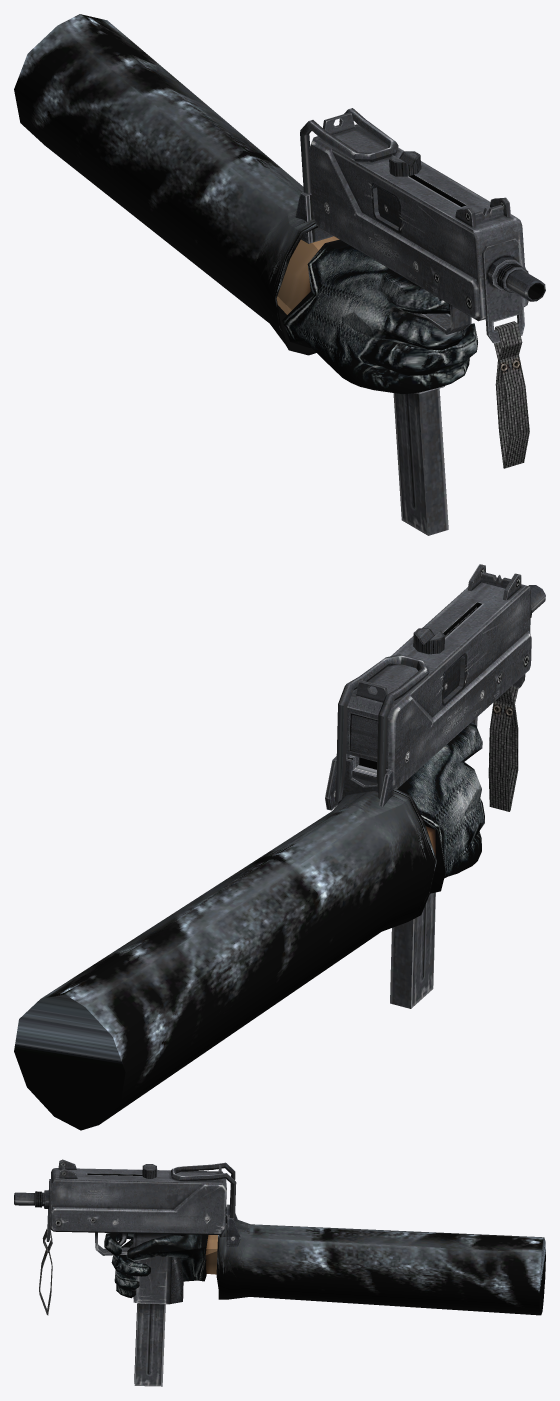
Rendered from ingram.FBX.
3 renders of one model, top to bottom at view 1: azimuth 30°, elevation 25°; view 2: azimuth 150°, elevation 25°; view 3: azimuth 270°, elevation 25°, orthographic. The views are drawn at different scales.
Parts seen in each view (by area): view 1: ingram; view 2: ingram; view 3: ingram.
Part boxes in pixels (box(x1,y1,x2,y2)): ingram: box(14, 14, 545, 535); ingram: box(14, 564, 545, 1130); ingram: box(14, 1159, 545, 1386).
Size of the model in its own units: 4.44 by 24.65 by 11.08.
Materials: 2 (2 with a texture image).
